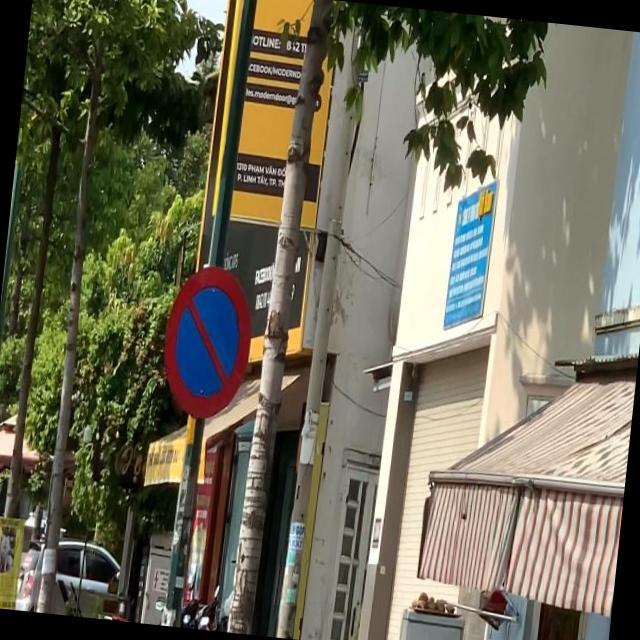P-131a: (158, 260, 256, 421)
